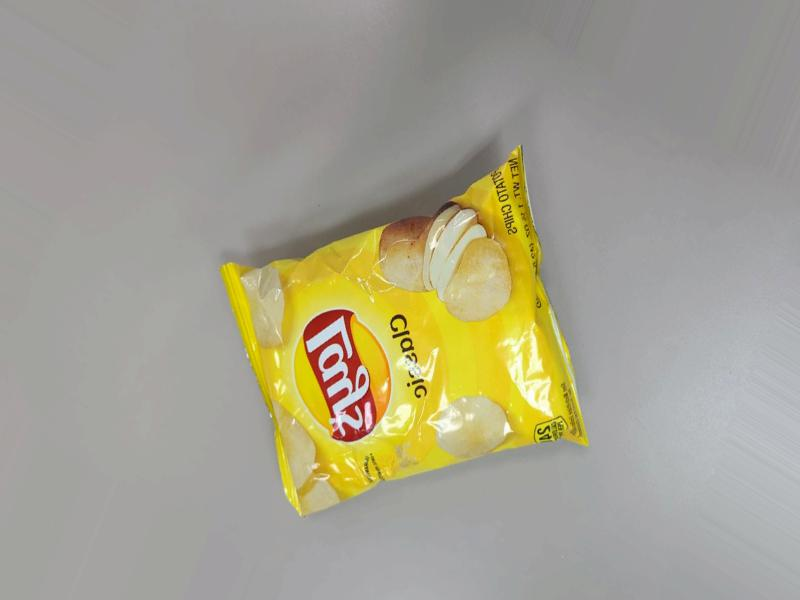lays: (256, 158, 605, 512)
